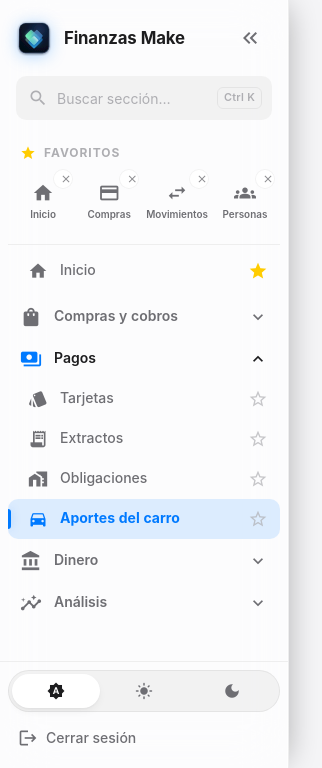
Scenario: MenuComponent › búsqueda › el botón de limpiar vacía el buscador
Type "carro" into the search field with class "buscador-input". click: point(144, 98)
box: [16, 76, 272, 120]
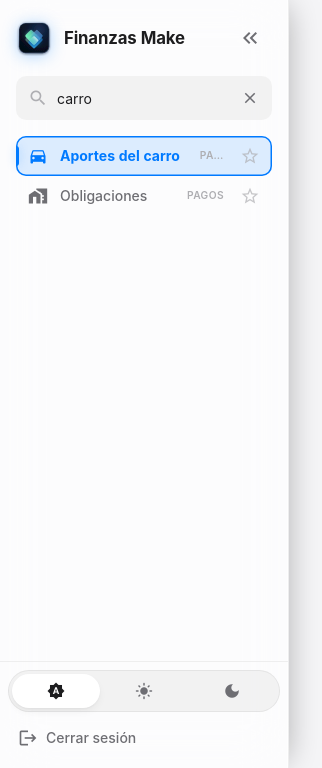
Click the button with class "buscador-limpiar". click: point(250, 98)
box: [232, 80, 268, 116]
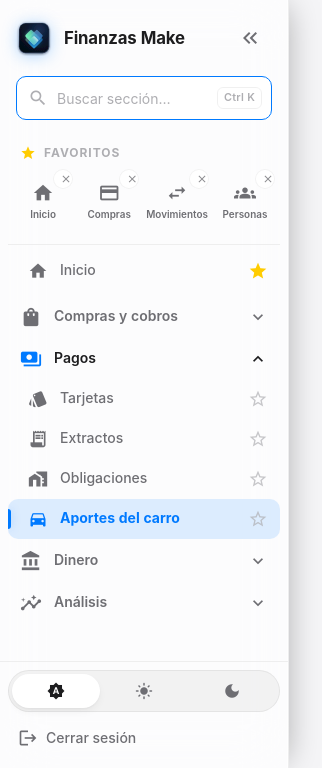
Result: the button with class "buscador-limpiar" is gone
